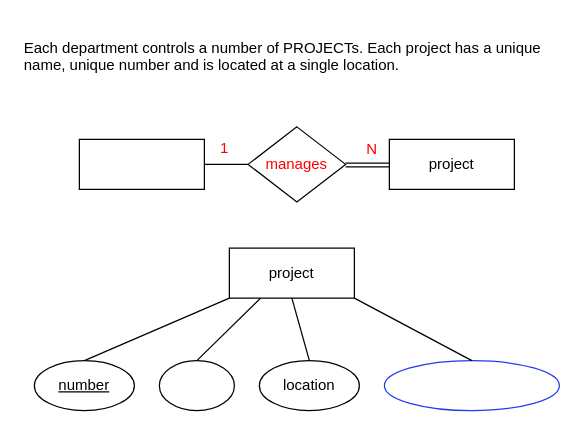
Some shapes in this 581 by 433 pixel diagram are drawn without their labels. The shapes that lost their labels are listed below. From the top down, each one's centre as x and y in pixels, then its label:
point (141, 163): department
point (196, 385): name
point (471, 385): department_number
